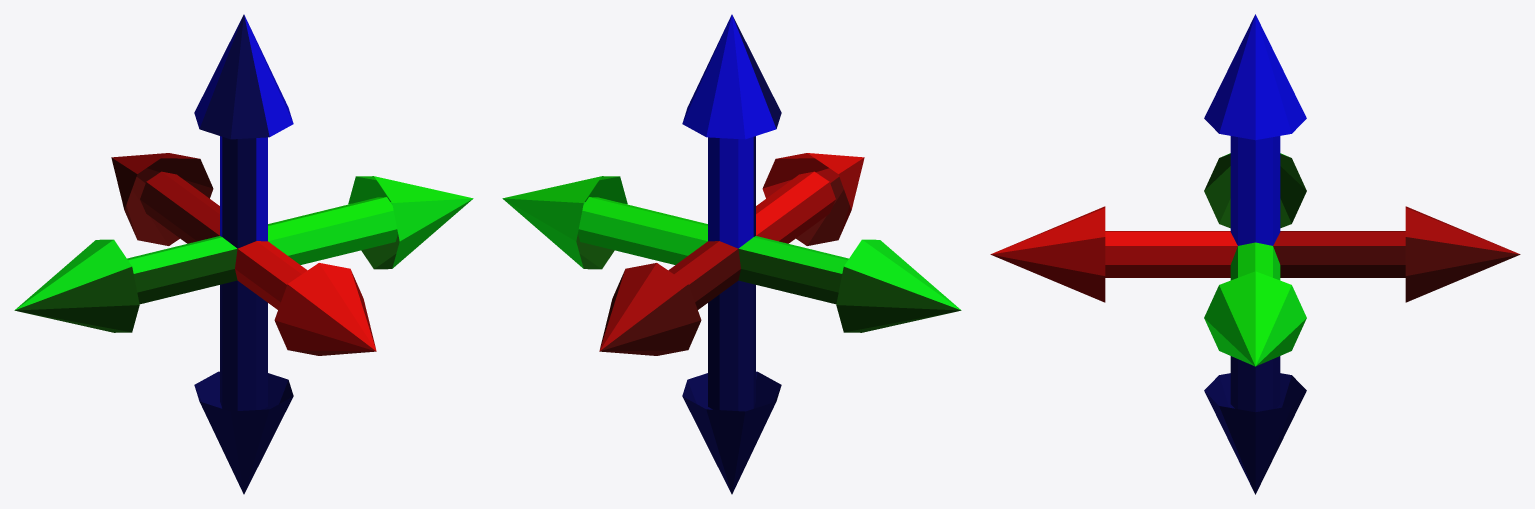
File: Arrow.glb
3 views of the same model, side by side, from view 1: azimuth 30°, elevation 25°; view 2: azimuth 150°, elevation 25°; view 3: azimuth 270°, elevation 25° (orthographic).
Parts seen in each view (by area): view 1: Arrow; view 2: Arrow; view 3: Arrow.
Part boxes in pixels (x1,y1,x2,y2): Arrow: (14,14,473,494); Arrow: (502,14,961,494); Arrow: (990,14,1520,494).
Bounding box in the file's own units: 1.28 × 1.28 × 1.28.
